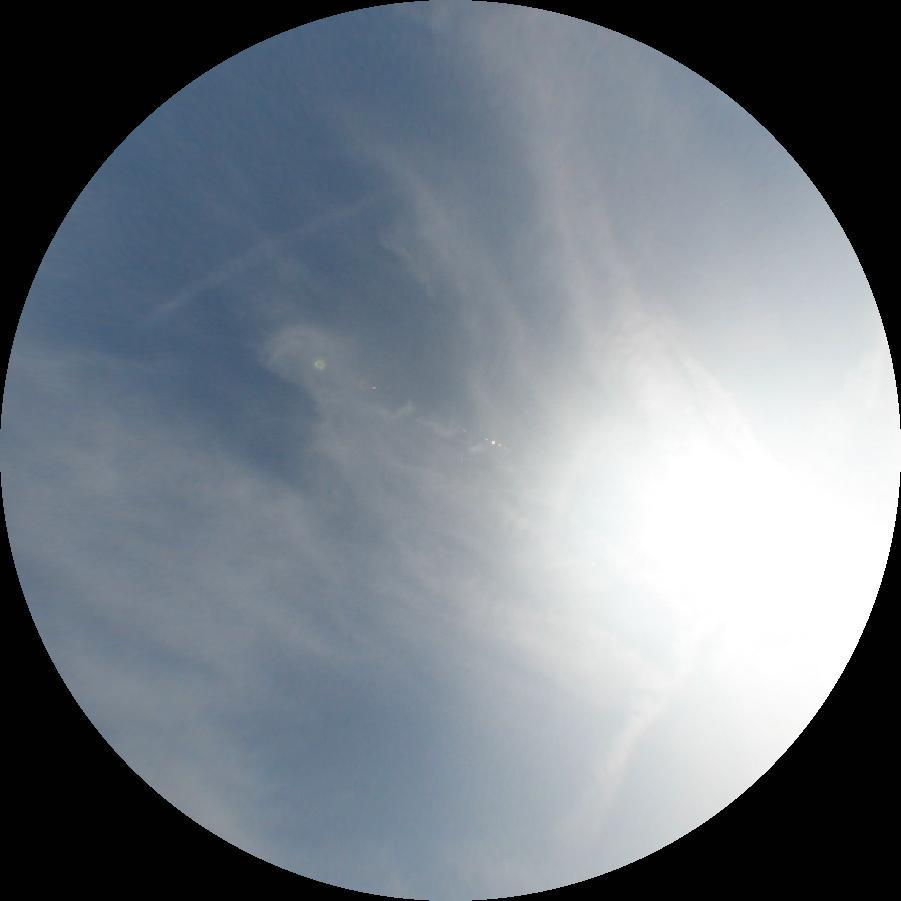contrail veryold: (132, 175, 394, 335)
sun: (578, 427, 816, 667)
